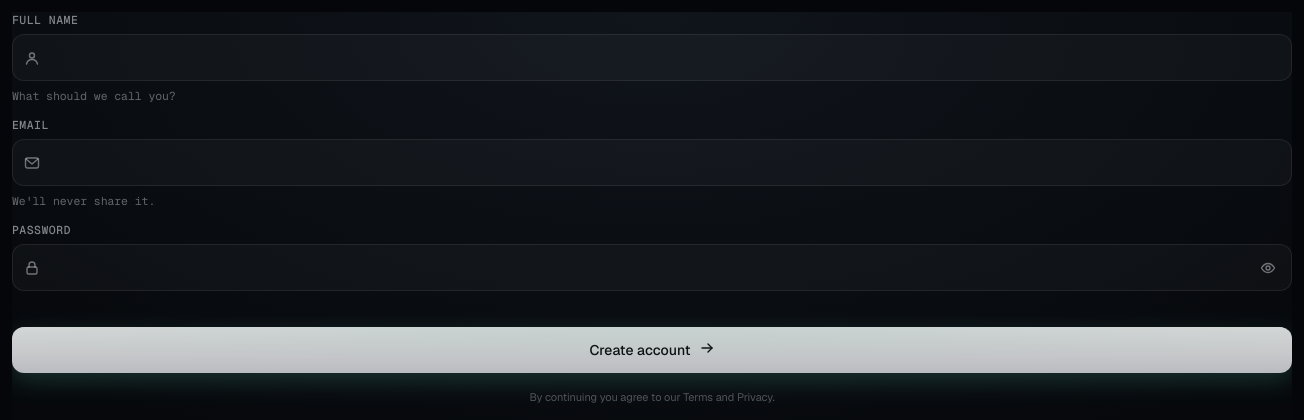
Scenario: SignUpForm › shows email error after blur with invalid value
Type "not-an-email" into the field labelled "Email" at (671, 162), box [51, 140, 1291, 185]
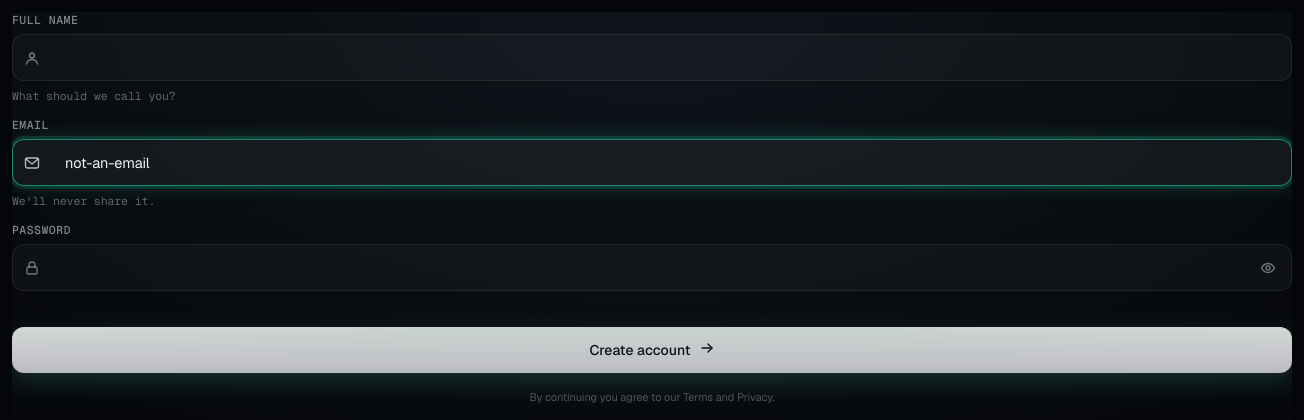
Press Tab
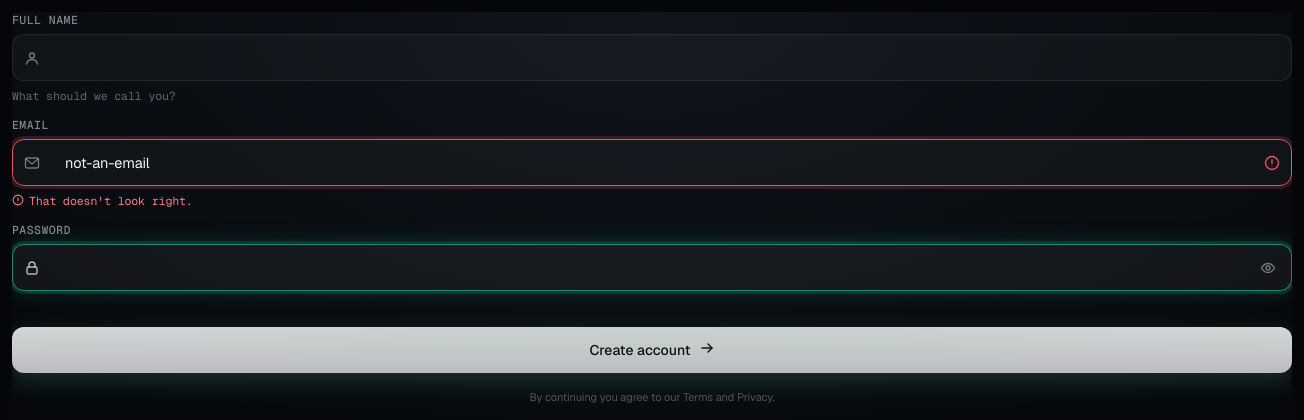
Expected: the text "That doesn't look right." is shown, [12, 192, 193, 208]
